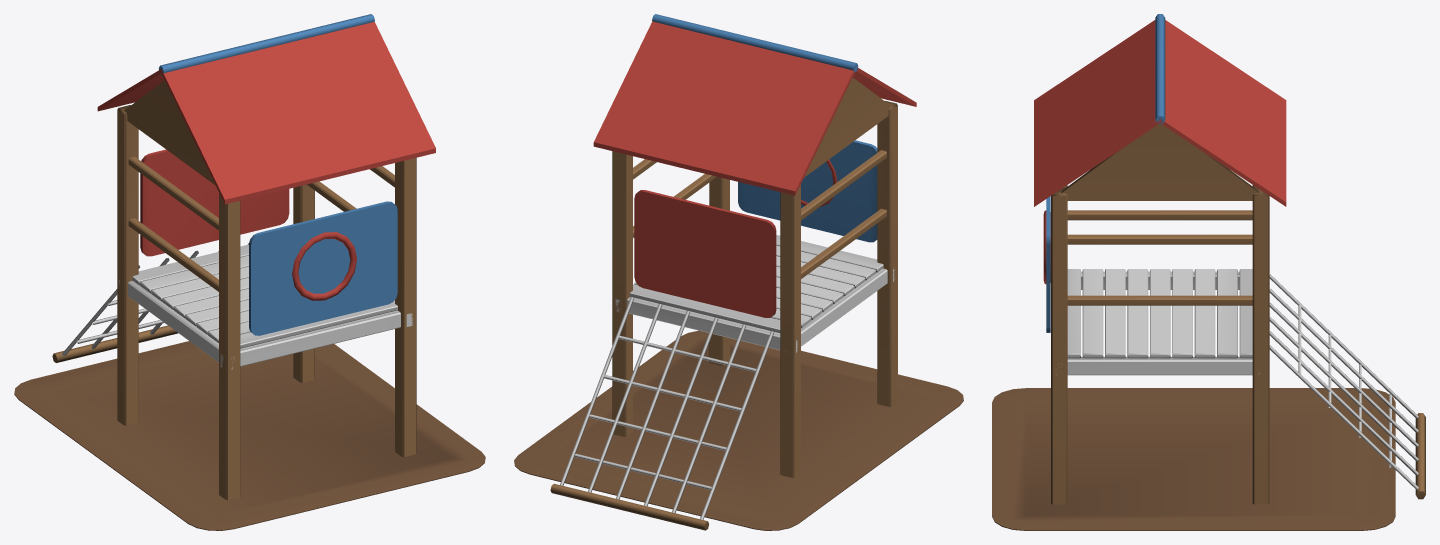
The model's file is PlayTower.fbx.
The picture shows the model from 3 angles, left to right: view 1: azimuth 30°, elevation 25°; view 2: azimuth 150°, elevation 25°; view 3: azimuth 270°, elevation 25°; orthographic projection. The views are drawn at different scales.
Parts seen in each view (by area): view 1: PlayTower; view 2: PlayTower; view 3: PlayTower.
Part boxes in pixels (x1,y1,x2,y2): PlayTower: (14,14,485,530); PlayTower: (514,14,963,530); PlayTower: (992,14,1425,530).
Bounding box in the file's own units: 2 × 2.6 × 2.58.
